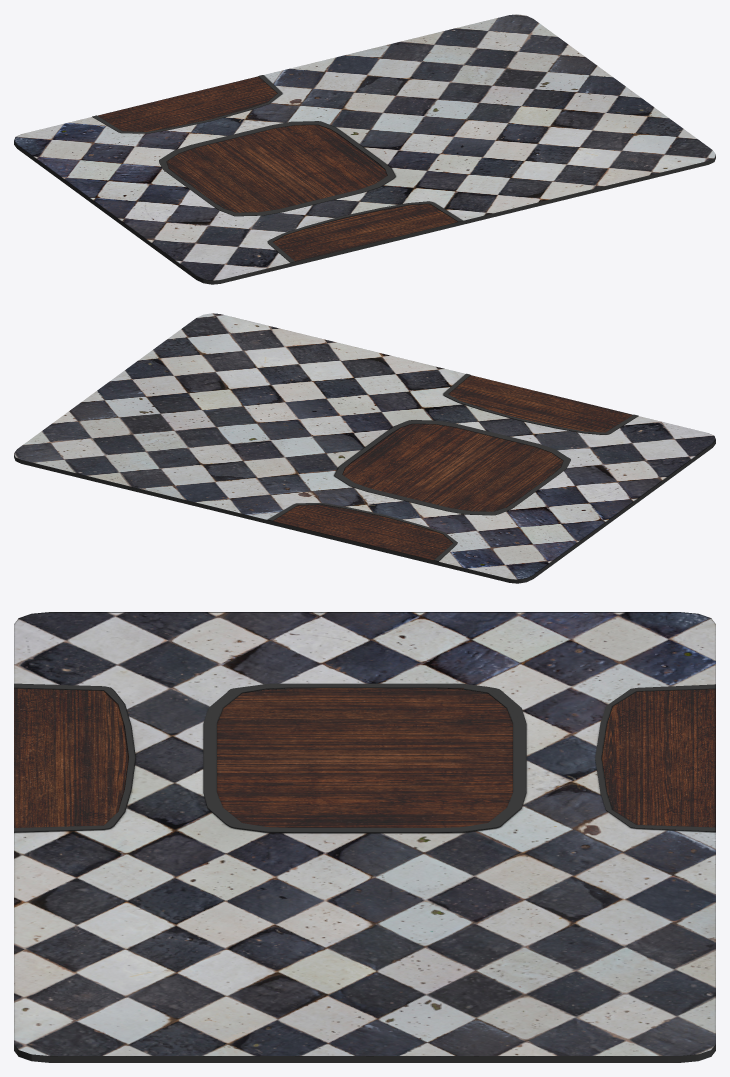
Rendered from D_Floor.fbx.
3 views of the same model, one above another, from view 1: azimuth 30°, elevation 25°; view 2: azimuth 150°, elevation 25°; view 3: azimuth 270°, elevation 25° (orthographic). The views are drawn at different scales.
Visible parts, largest first — view 1: pCube46; view 2: pCube46; view 3: pCube46.
Boxes of the visible parts, <box> form: pCube46: <box>14,14,715,284</box>; pCube46: <box>14,313,715,583</box>; pCube46: <box>14,612,715,1062</box>.
Bounding box in the file's own units: 23.24 × 0.185 × 15.54.
Materials: 1 (1 with a texture image).
